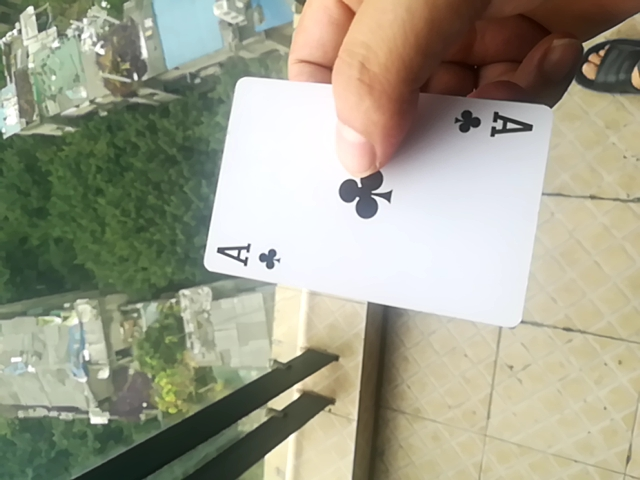mh a: (202, 69, 556, 329)
